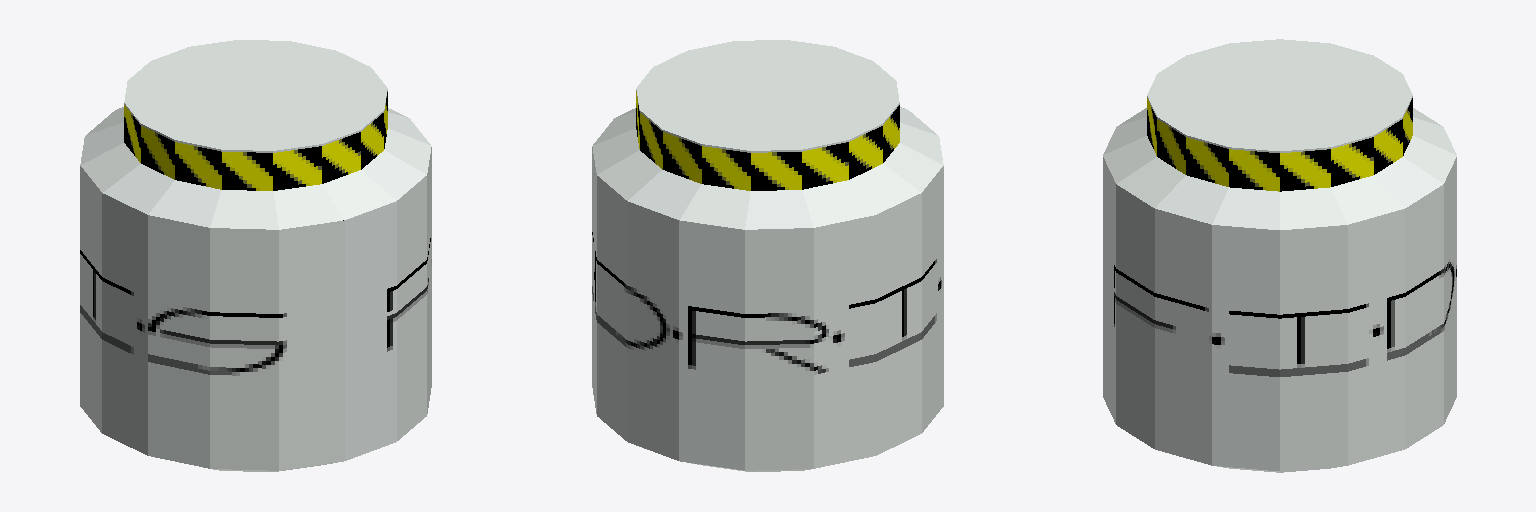
3 views of the same model, side by side, from view 1: azimuth 30°, elevation 25°; view 2: azimuth 150°, elevation 25°; view 3: azimuth 270°, elevation 25° (orthographic).
Visible parts, largest first — view 1: cylinder1; view 2: cylinder1; view 3: cylinder1.
Boxes of the visible parts, x1,y1,x2,y2 form: cylinder1: [80, 40, 431, 471]; cylinder1: [592, 40, 943, 471]; cylinder1: [1103, 39, 1456, 472].
Size of the model in its own units: 6 by 6 by 6.
Materials: 1 (1 with a texture image).